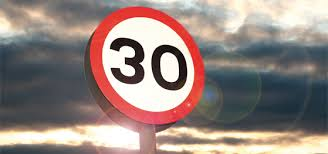Speed_limit_30km: (91, 5, 205, 122)
